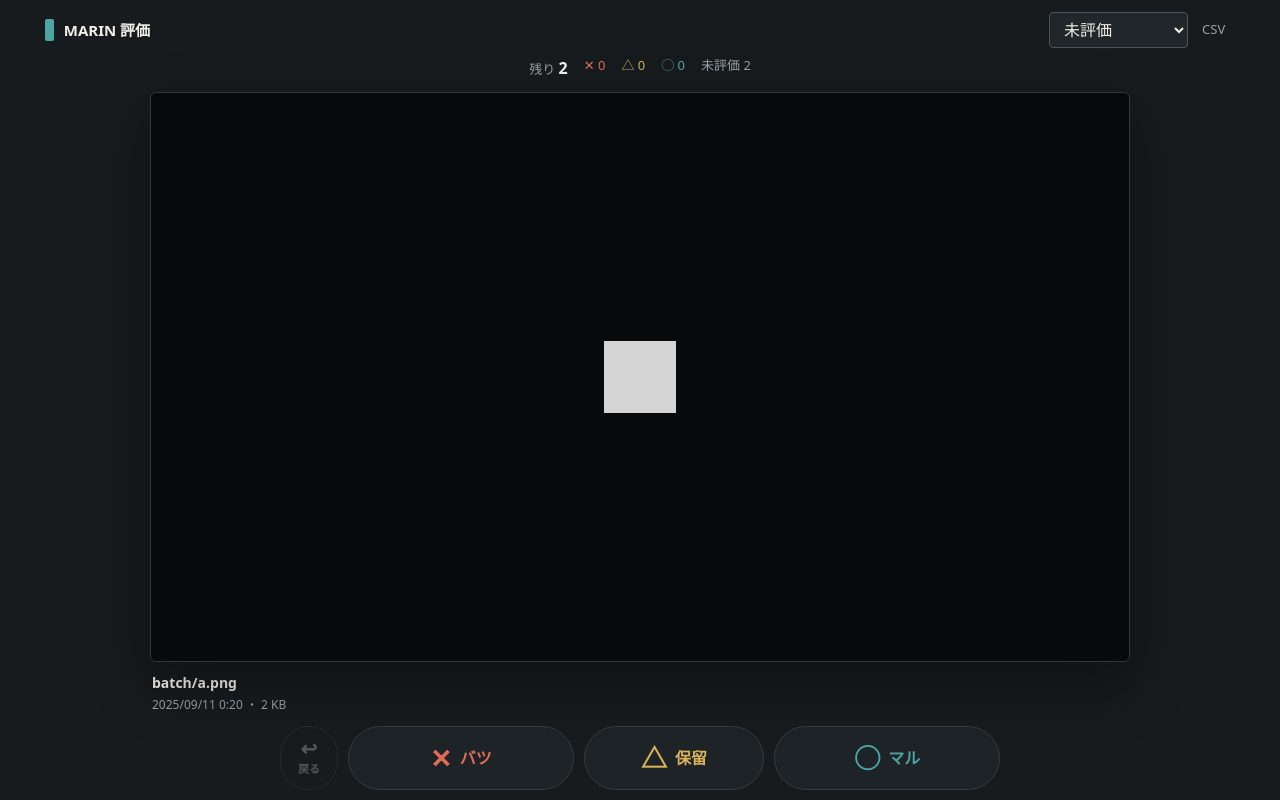
Scenario: MediaReviewApp › loads the hold queue when the mode changes
Select "保留を見直す" in the dropdown named "表示する対象" at (1118, 30), box [1049,12,1188,48]
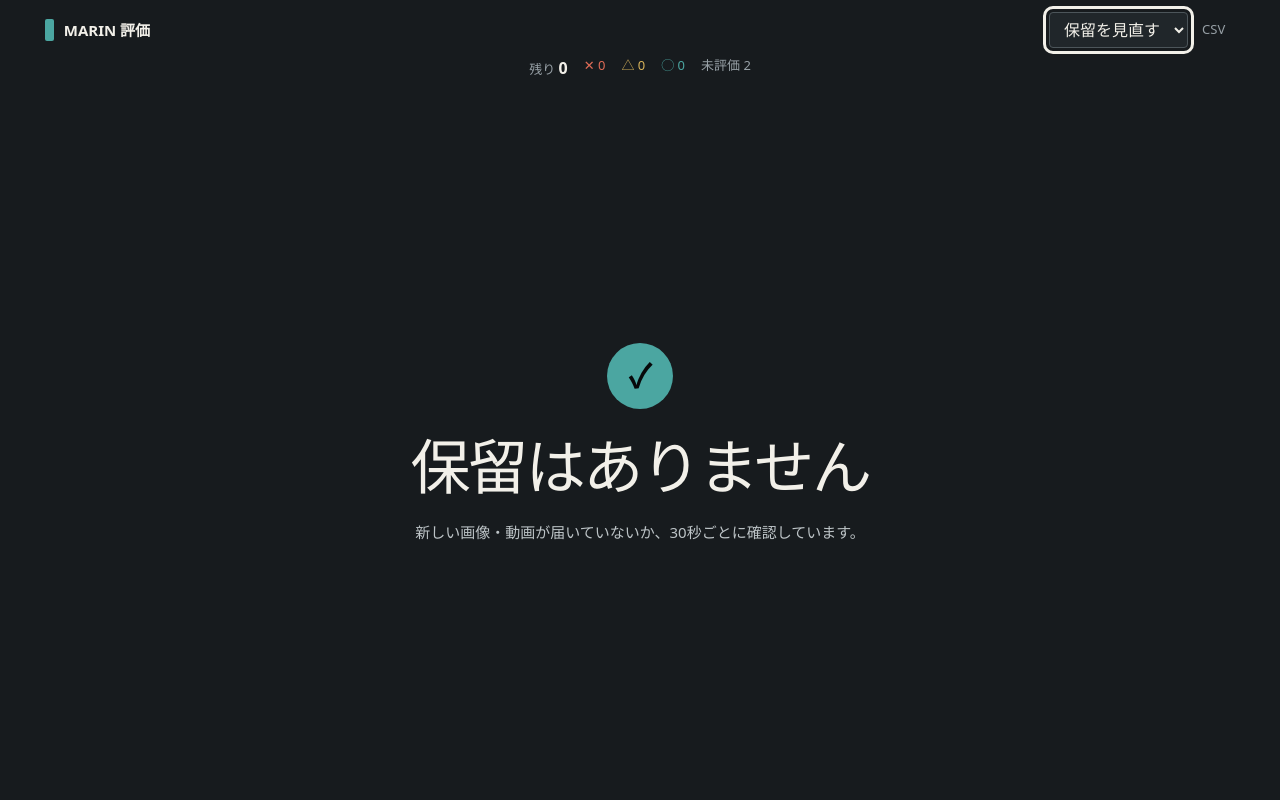
Expected: the heading "保留はありません" is shown, [410,432,870,498]
